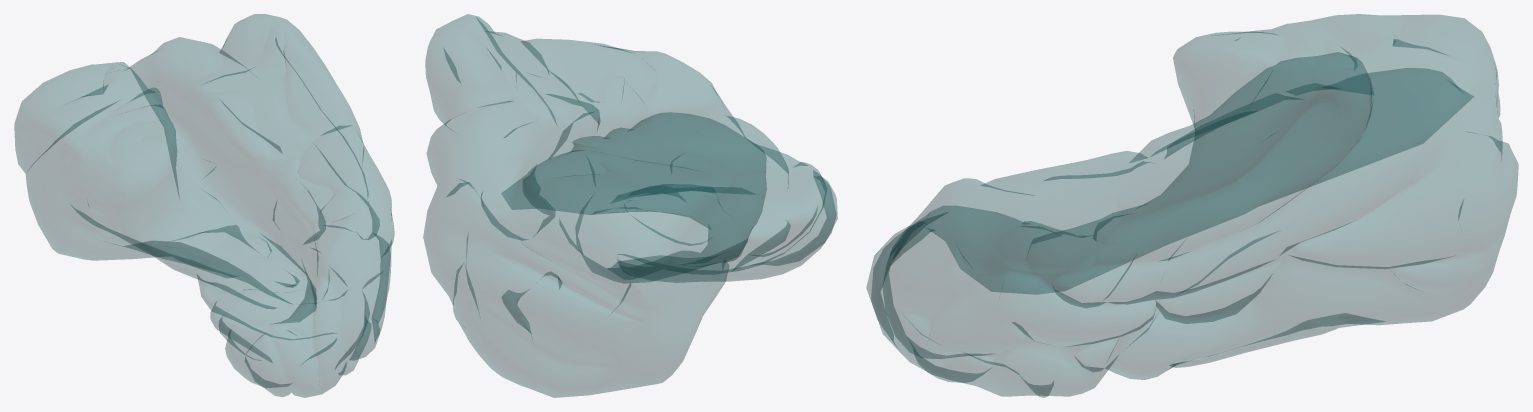
File: Transperent Temporal_Lobe.gltf
3 views of the same model, side by side, from view 1: azimuth 30°, elevation 25°; view 2: azimuth 150°, elevation 25°; view 3: azimuth 270°, elevation 25° (orthographic). The views are drawn at different scales.
Visible parts, largest first — view 1: Temporal_Lobe_Left; view 2: Temporal_Lobe_Left; view 3: Temporal_Lobe_Left.
Part boxes in pixels (x1=…): Temporal_Lobe_Left: x1=14, y1=14, x2=394, y2=397; Temporal_Lobe_Left: x1=423, y1=14, x2=837, y2=397; Temporal_Lobe_Left: x1=866, y1=14, x2=1518, y2=397.
Bounding box in the file's own units: 6.5 × 6.69 × 10.52.
